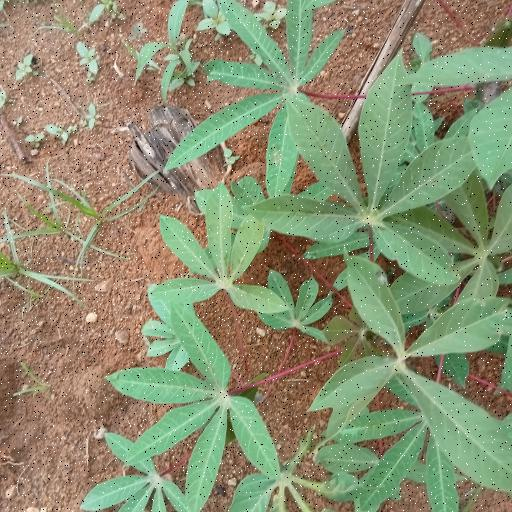Cassava_Mosaic: (313, 252, 512, 486), (265, 68, 473, 281), (124, 305, 281, 493)
